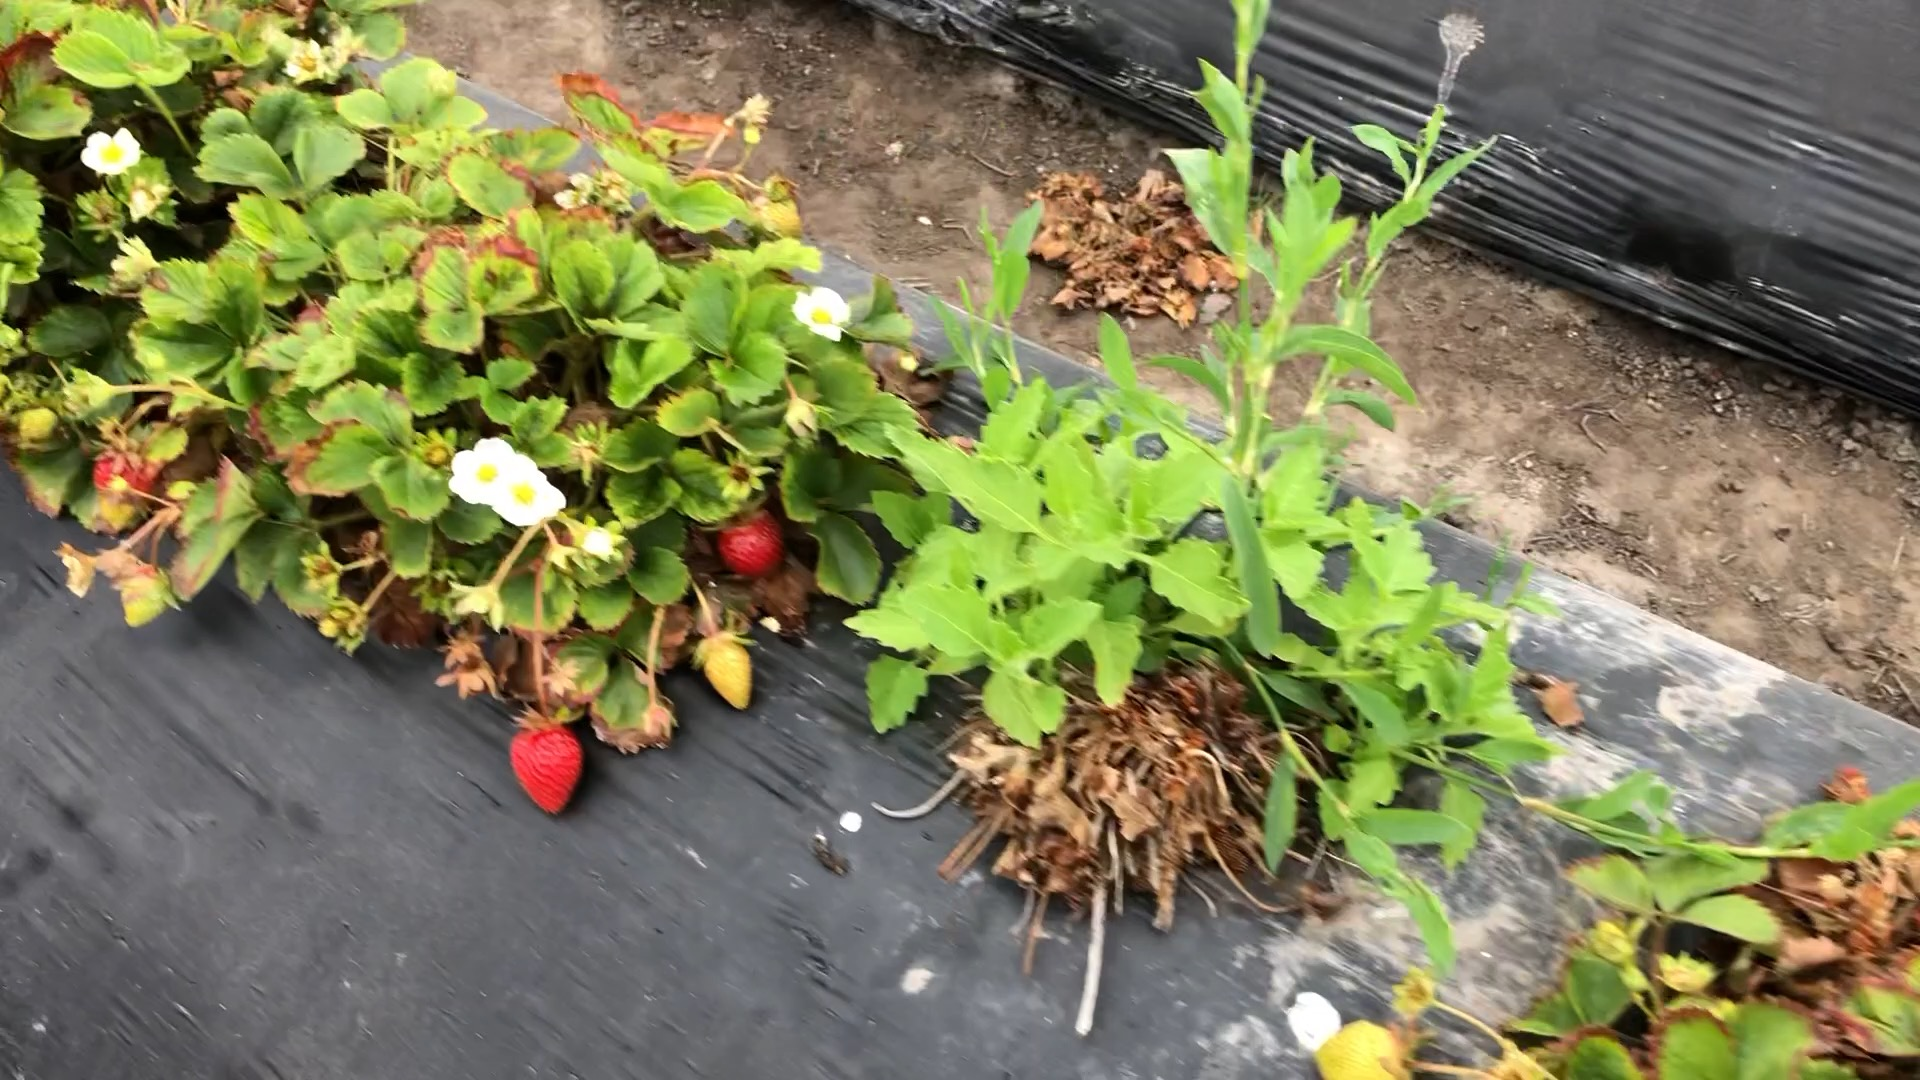ripe_strawberry: (508, 712, 589, 823), (715, 504, 791, 583), (88, 440, 162, 502)
unripe_strawberry: (1312, 1013, 1419, 1080), (694, 628, 760, 715), (17, 405, 65, 444)
